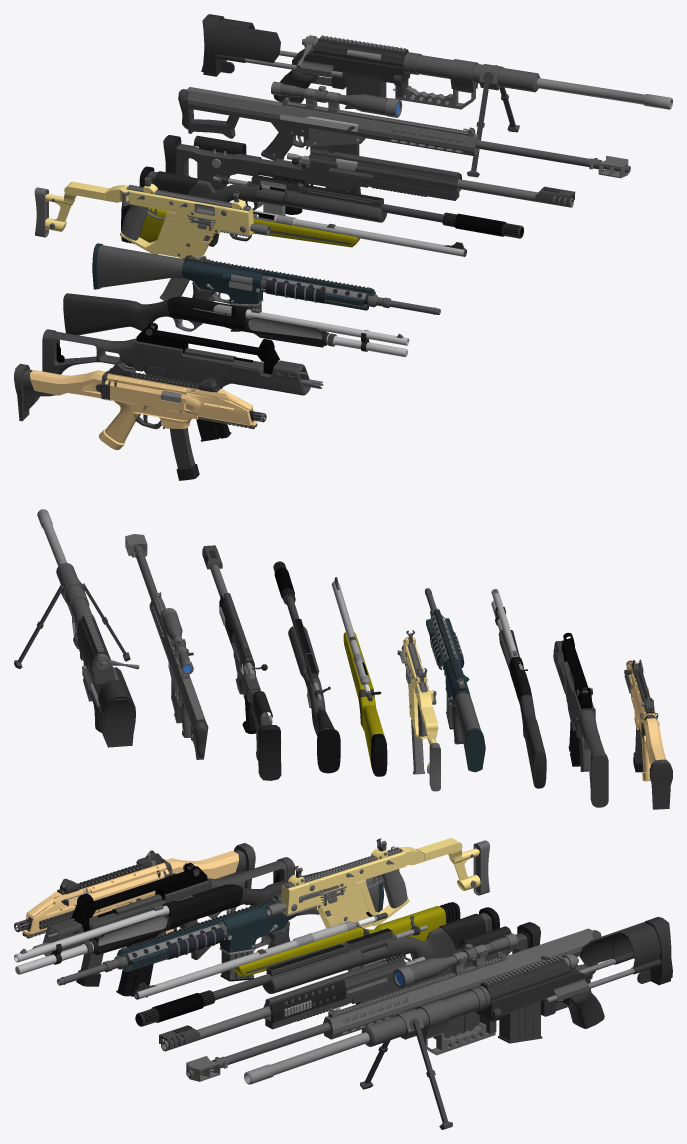
Rendered from weapon_pack_of_10100_part_8.glb.
3 renders of one model, top to bottom at view 1: azimuth 30°, elevation 25°; view 2: azimuth 150°, elevation 25°; view 3: azimuth 270°, elevation 25°, orthographic. The views are drawn at different scales.
Parts seen in each view (by area): view 1: M200, Barret_M82A1, JNG_90, CZ_Scorpion_Evo, G36C, SR_25_Apply, KrissVector, Benelli_M2, M24_Apply, STEYR_SSG69; view 2: M200, JNG_90, Barret_M82A1, G36C, SR_25_Apply, M24_Apply, CZ_Scorpion_Evo, KrissVector, STEYR_SSG69, Benelli_M2; view 3: M200, Barret_M82A1, KrissVector, M24_Apply, JNG_90, SR_25_Apply, CZ_Scorpion_Evo, G36C, Benelli_M2, STEYR_SSG69.
Boxes of the visible parts, <box> form: M200: <box>201,14,672,177</box>; Barret_M82A1: <box>178,81,630,178</box>; JNG_90: <box>163,135,575,214</box>; CZ_Scorpion_Evo: <box>14,361,266,480</box>; G36C: <box>42,323,323,441</box>; SR_25_Apply: <box>92,243,440,331</box>; KrissVector: <box>34,174,270,300</box>; Benelli_M2: <box>63,293,409,356</box>; M24_Apply: <box>139,166,523,238</box>; STEYR_SSG69: <box>121,204,466,256</box>; M200: <box>14,509,139,747</box>; JNG_90: <box>202,545,281,780</box>; Barret_M82A1: <box>125,534,208,759</box>; G36C: <box>553,632,608,807</box>; SR_25_Apply: <box>425,588,485,772</box>; M24_Apply: <box>273,561,340,773</box>; CZ_Scorpion_Evo: <box>624,659,672,809</box>; KrissVector: <box>397,630,440,791</box>; STEYR_SSG69: <box>331,577,387,776</box>; Benelli_M2: <box>491,588,546,788</box>; M200: <box>244,917,672,1129</box>; Barret_M82A1: <box>186,928,601,1081</box>; KrissVector: <box>265,838,489,971</box>; M24_Apply: <box>135,907,499,1026</box>; JNG_90: <box>159,922,540,1051</box>; SR_25_Apply: <box>56,875,384,985</box>; CZ_Scorpion_Evo: <box>14,843,255,986</box>; G36C: <box>32,857,294,997</box>; Benelli_M2: <box>14,869,328,974</box>; STEYR_SSG69: <box>133,902,460,999</box>.
Size of the model in its own units: 86.35 by 25.03 by 68.38.
Materials: 2 (2 with a texture image).
